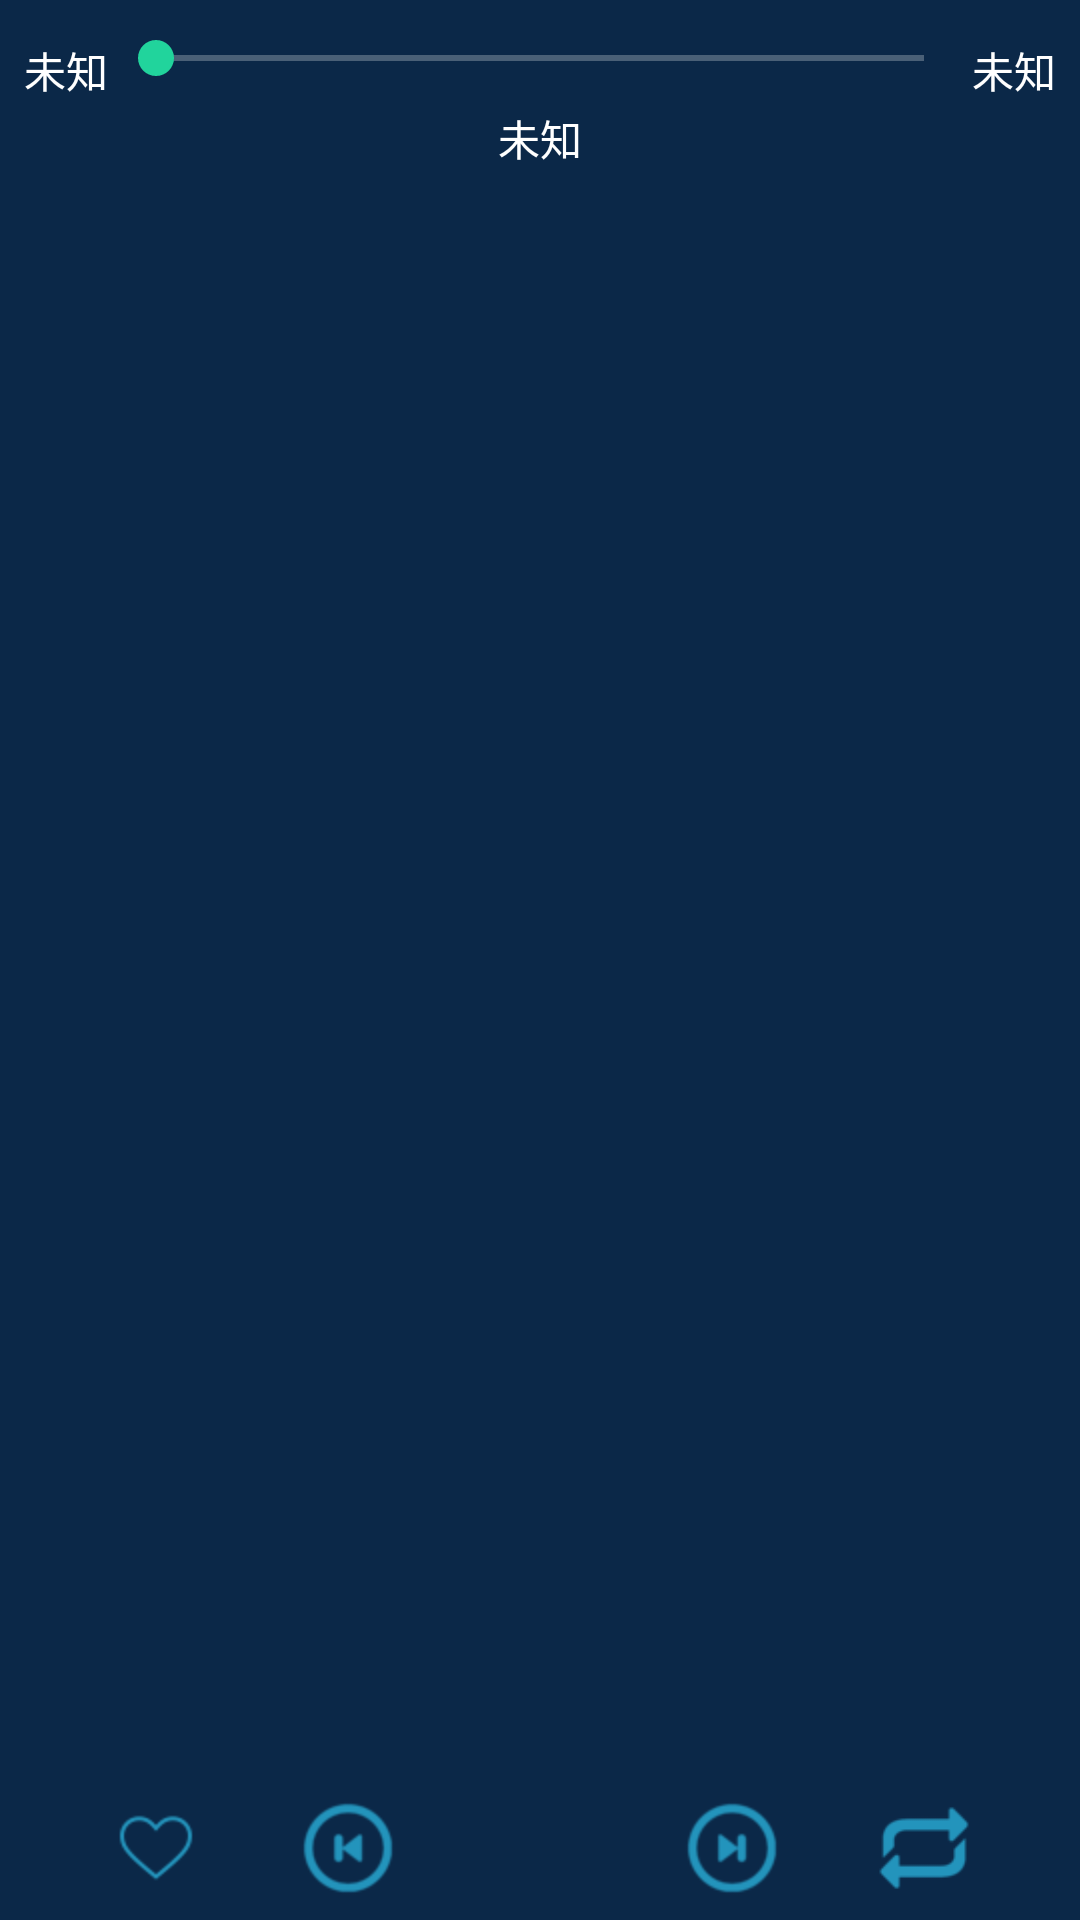

Screen size 1080x1920. Icon name, then its center in pixels as point (x, y):
favorite: point (156, 1847)
next: point (732, 1848)
order: point (924, 1848)
previous: point (348, 1848)
